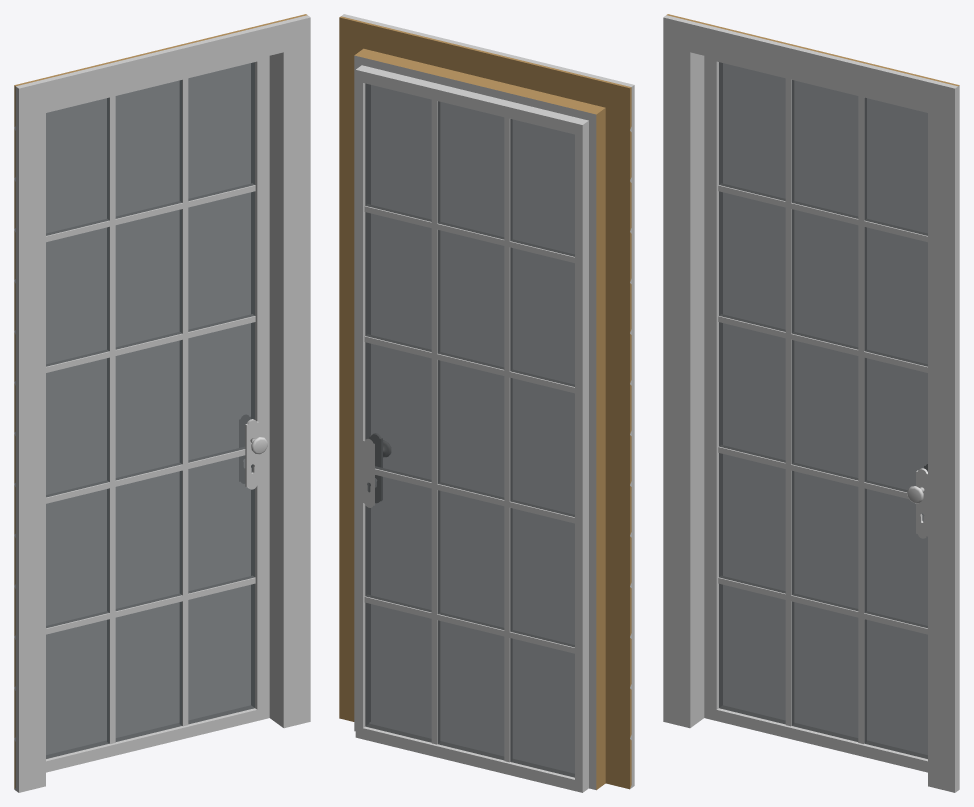
File: suburban-bogdan.glb
The picture shows the model from 3 angles, left to right: view 1: azimuth 30°, elevation 25°; view 2: azimuth 150°, elevation 25°; view 3: azimuth 330°, elevation 25°; orthographic projection.
Parts seen in each view (by area): view 1: glass_glass_0, white_white_0, siding_siding_0; view 2: glass_glass_0, white_white_0, siding_siding_0; view 3: glass_glass_0, white_white_0, siding_siding_0.
Part boxes in pixels (x1,y1,x2,y2): glass_glass_0: (46,62,254,758); white_white_0: (14,15,310,792); siding_siding_0: (14,14,307,788); glass_glass_0: (365,83,574,777); white_white_0: (341,14,634,792); siding_siding_0: (339,16,631,789); glass_glass_0: (719,62,927,758); white_white_0: (663,15,959,792); siding_siding_0: (666,14,959,86).
Bounding box in the file's own units: 1.08 × 2.49 × 0.1301.
